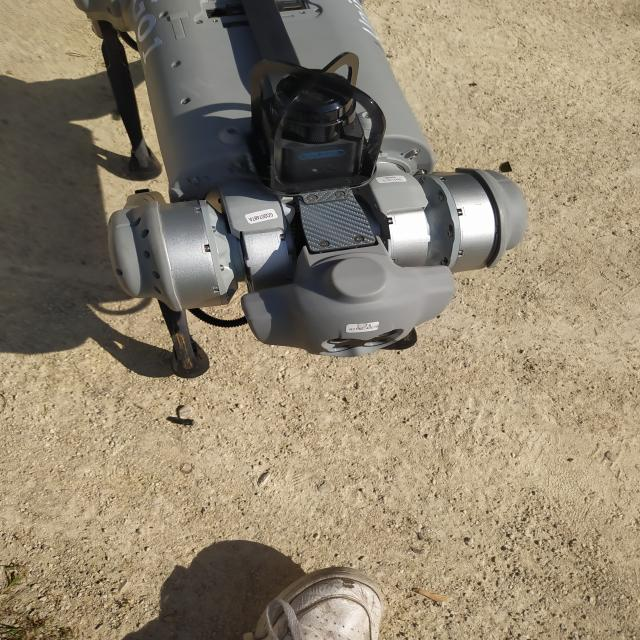unitree-go1-robot: (43, 1, 541, 393)
